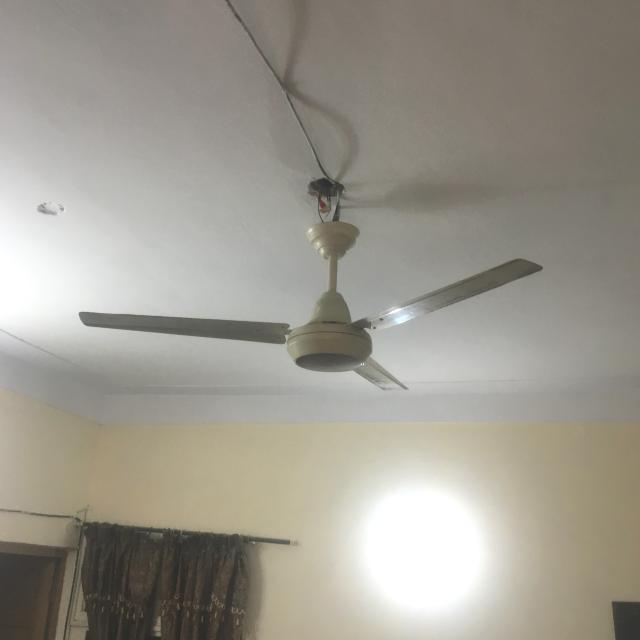off: (69, 248, 554, 398)
